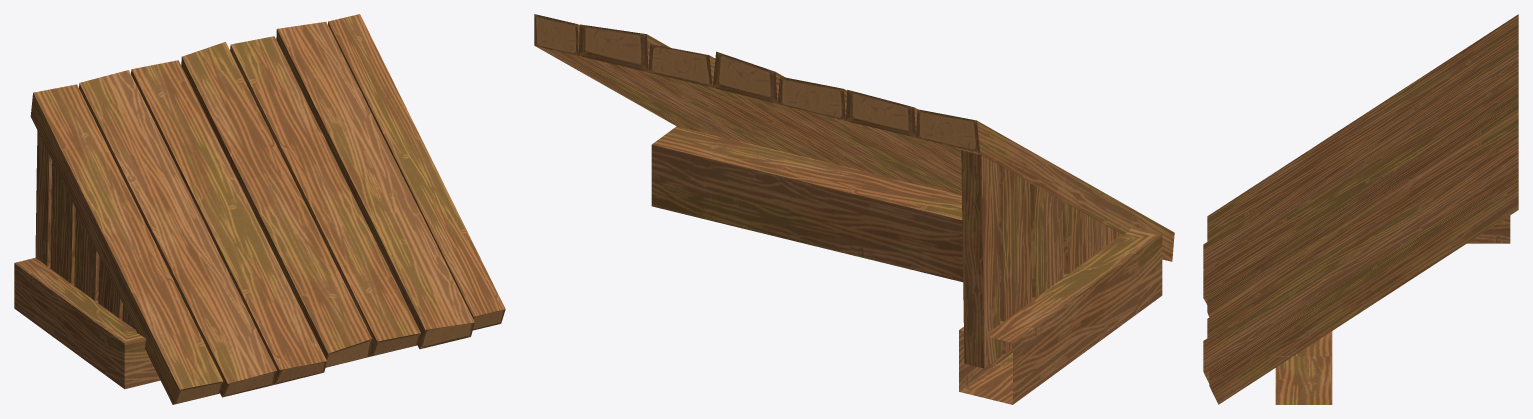
Rendered from Roof_Wooden_2x1_L.glb.
The picture shows the model from 3 angles, left to right: view 1: azimuth 30°, elevation 25°; view 2: azimuth 150°, elevation 25°; view 3: azimuth 270°, elevation 25°; orthographic projection. The views are drawn at different scales.
Parts seen in each view (by area): view 1: Roof_Wooden_2x1_L; view 2: Roof_Wooden_2x1_L; view 3: Roof_Wooden_2x1_L.
Boxes of the visible parts, <box> form: Roof_Wooden_2x1_L: <box>14,14,505,404</box>; Roof_Wooden_2x1_L: <box>534,14,1174,404</box>; Roof_Wooden_2x1_L: <box>1203,14,1518,404</box>.
Bounding box in the file's own units: 2.13 × 1.25 × 1.56.
1 material, 1 textured.
